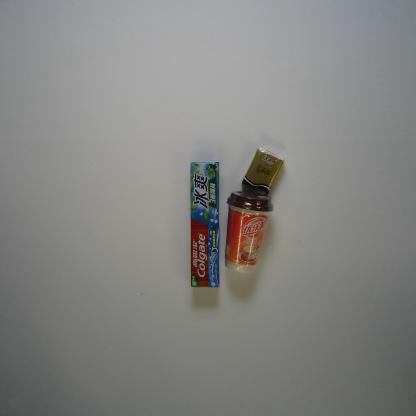Instant Drink: (224, 190, 275, 275)
Personal Hygiene: (189, 161, 221, 288)
Tissue: (241, 146, 286, 197)
